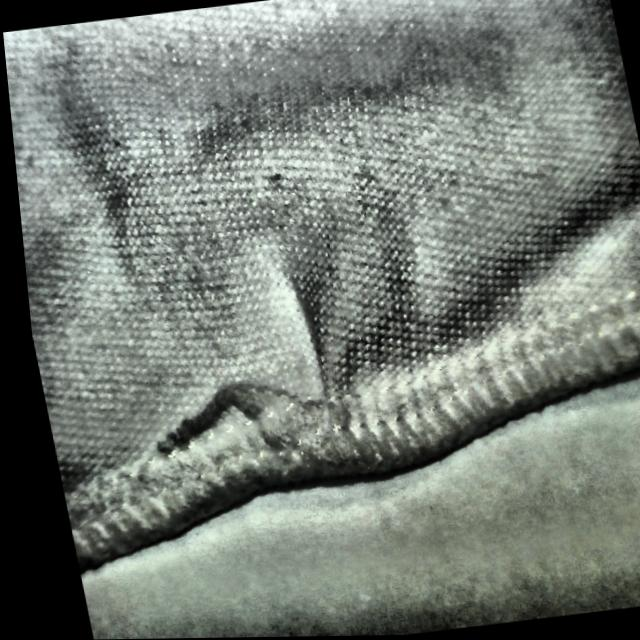seam: (123, 278, 379, 500)
